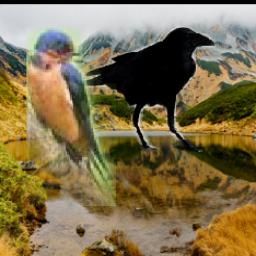Crow: (72, 27, 217, 153)
Swallow: (26, 29, 116, 207)
